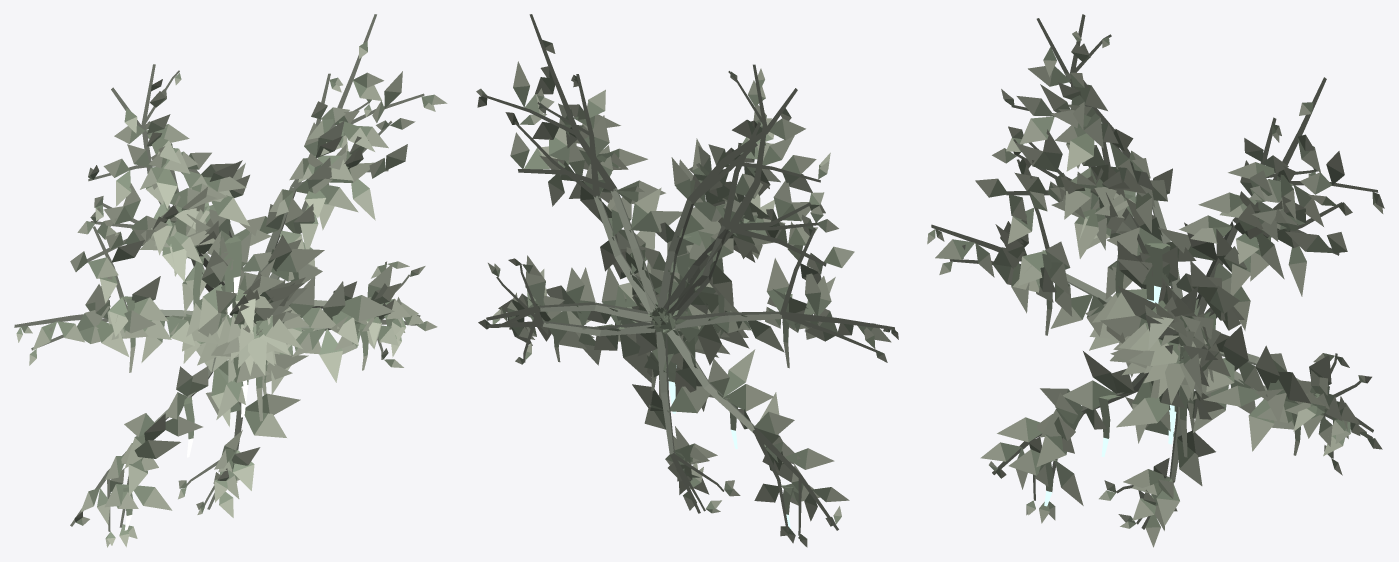
Rendered from plant_t1_flat_b.fbx.
3 views of the same model, side by side, from view 1: azimuth 30°, elevation 25°; view 2: azimuth 150°, elevation 25°; view 3: azimuth 330°, elevation 25° (orthographic). The views are drawn at different scales.
Visible parts, largest first — view 1: plant_t1_flat_b; view 2: plant_t1_flat_b; view 3: plant_t1_flat_b.
Part boxes in pixels (x1,y1,x2,y2): plant_t1_flat_b: [14, 14, 447, 547]; plant_t1_flat_b: [476, 14, 898, 547]; plant_t1_flat_b: [927, 14, 1384, 547].
Bounding box in the file's own units: 30.1 × 31.92 × 2.71.
